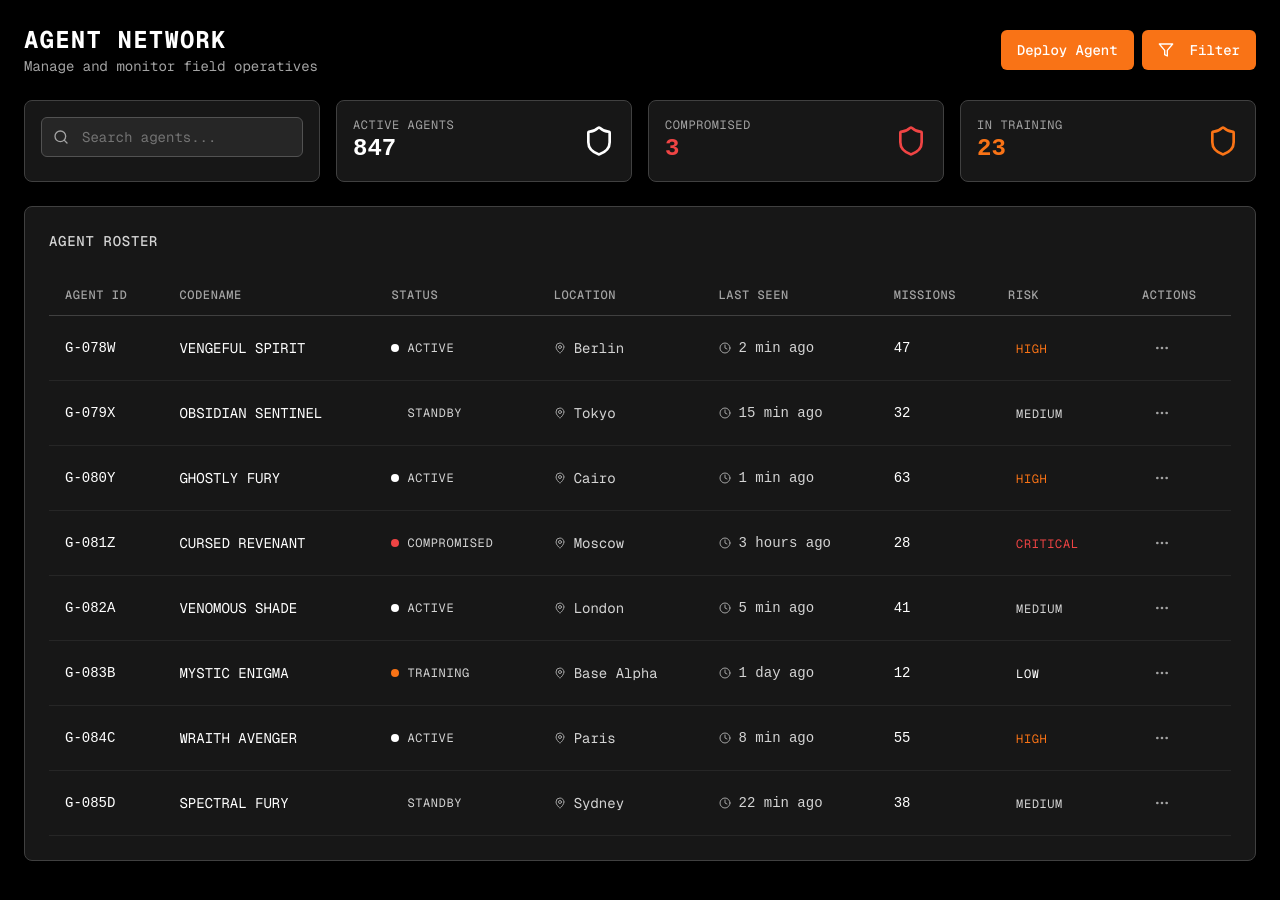
AgentNetworkPage › shows agent detail modal when agent row is clicked
Click the text "VENGEFUL SPIRIT" at (640, 348), box [49,316,1231,380]
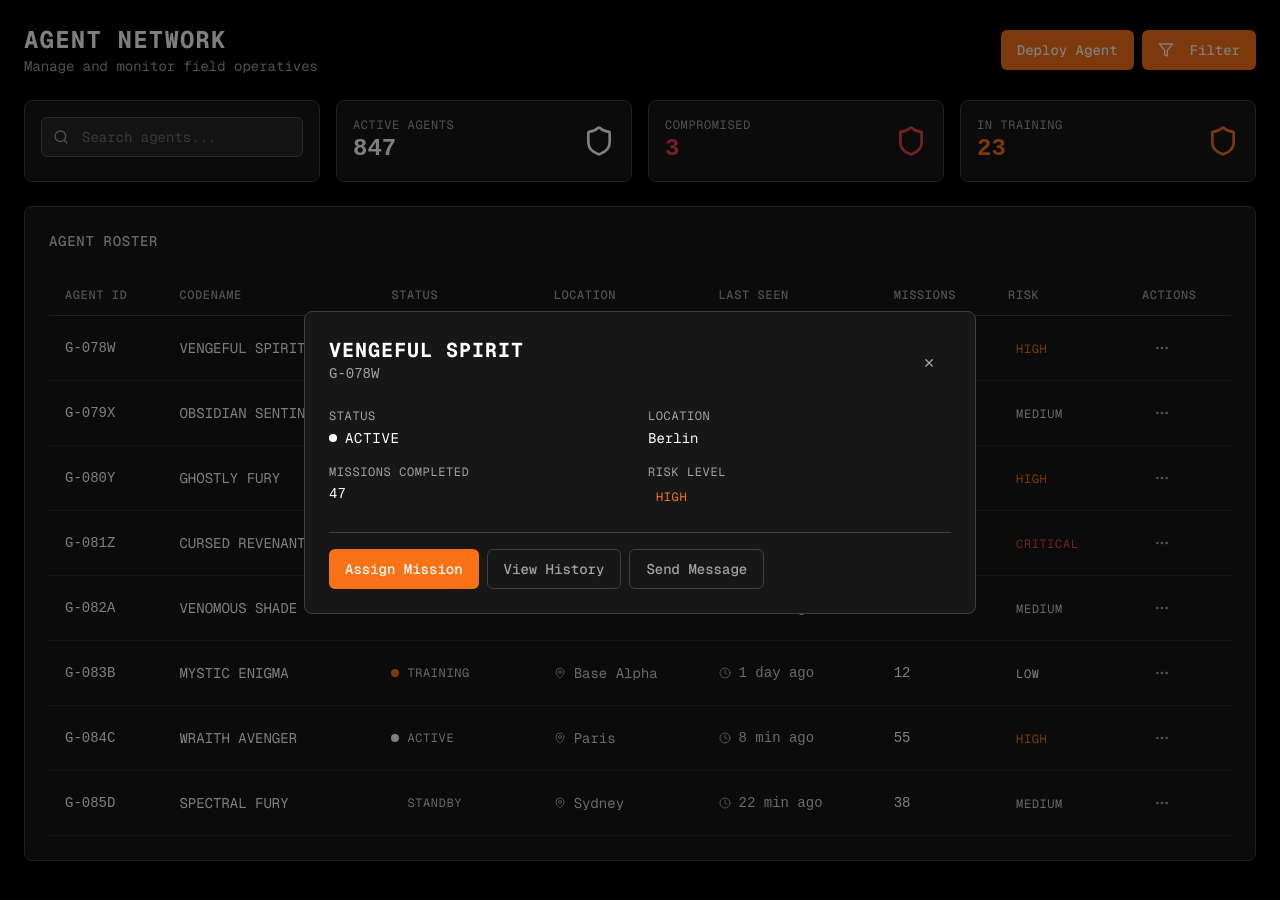
expect the button "Assign Mission" is shown: met, box [329,548,479,588]
expect the button "View History" is shown: met, box [487,548,621,588]
expect the button "Send Message" is shown: met, box [629,548,764,588]
